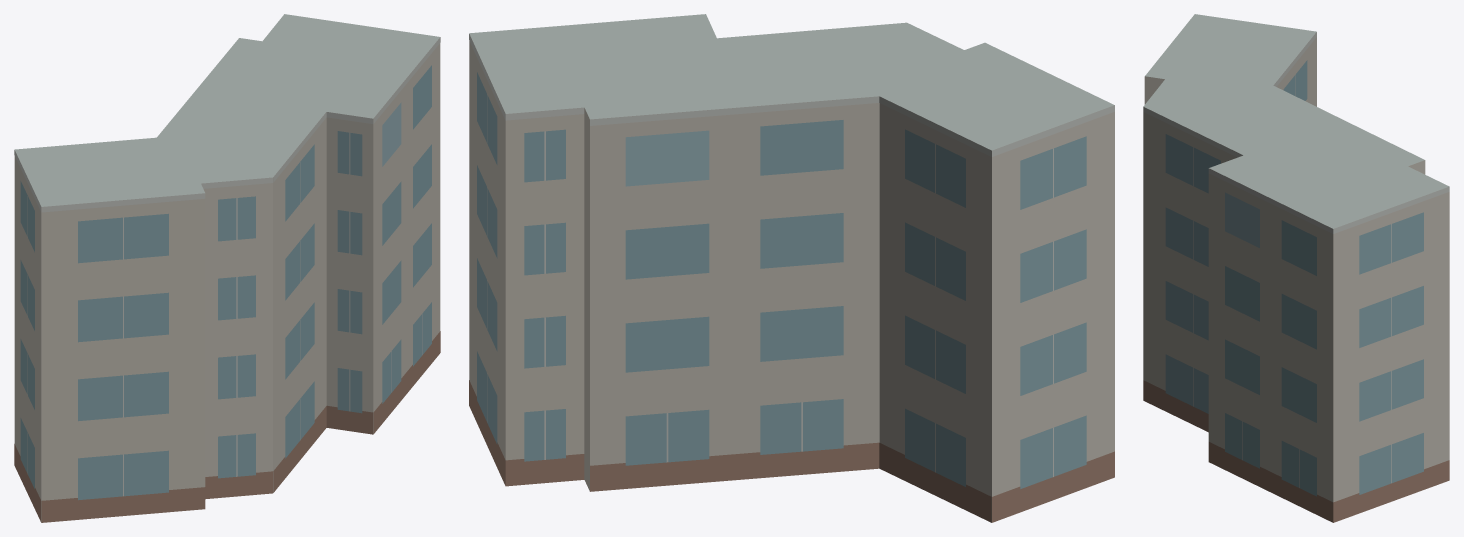
File: survey-upis-32918752.glb
The picture shows the model from 3 angles, left to right: view 1: azimuth 30°, elevation 25°; view 2: azimuth 150°, elevation 25°; view 3: azimuth 270°, elevation 25°; orthographic projection. The views are drawn at different scales.
Parts seen in each view (by area): view 1: survey-upis-32918752.tmp; view 2: survey-upis-32918752.tmp; view 3: survey-upis-32918752.tmp.
Boxes of the visible parts, left/top/right/bottom form: survey-upis-32918752.tmp: left=14, top=14, right=440, bottom=522; survey-upis-32918752.tmp: left=469, top=14, right=1114, bottom=522; survey-upis-32918752.tmp: left=1143, top=14, right=1449, bottom=522.
Size of the model in its own units: 21.76 by 13.87 by 13.11.
